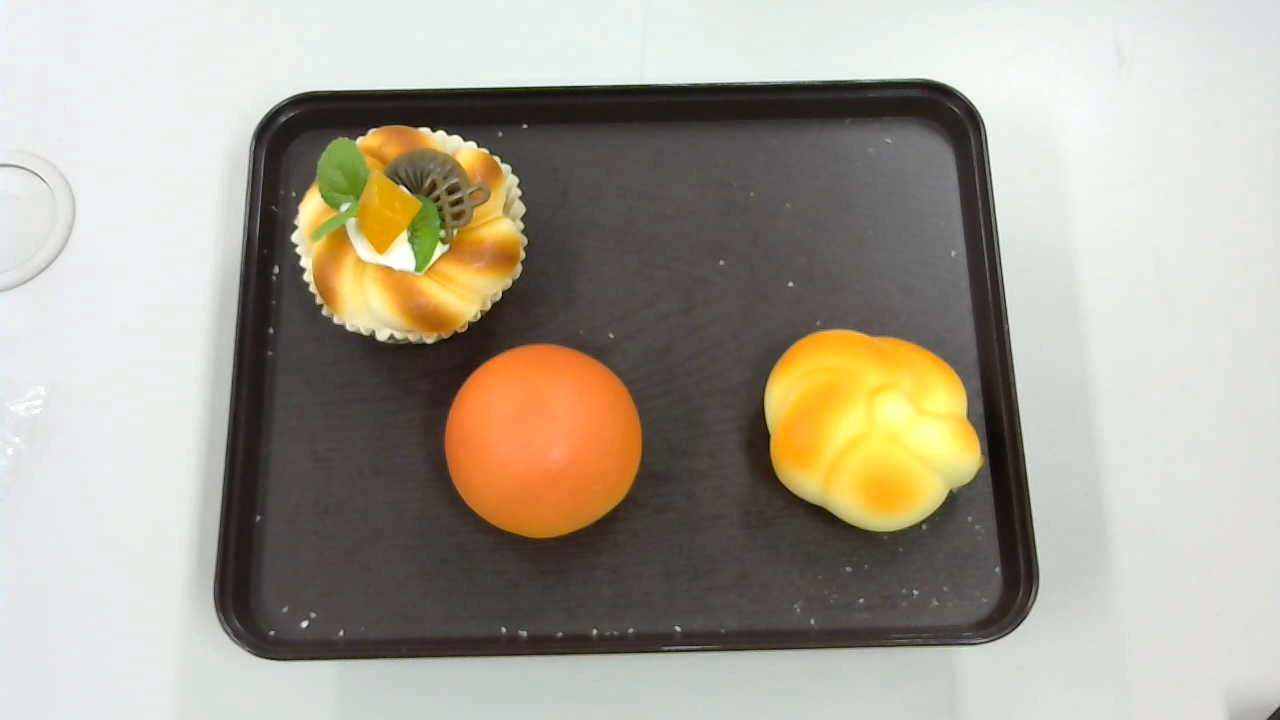bun: (444, 343, 642, 539)
croissant: (762, 327, 984, 535)
fruit tart: (290, 125, 527, 344)
